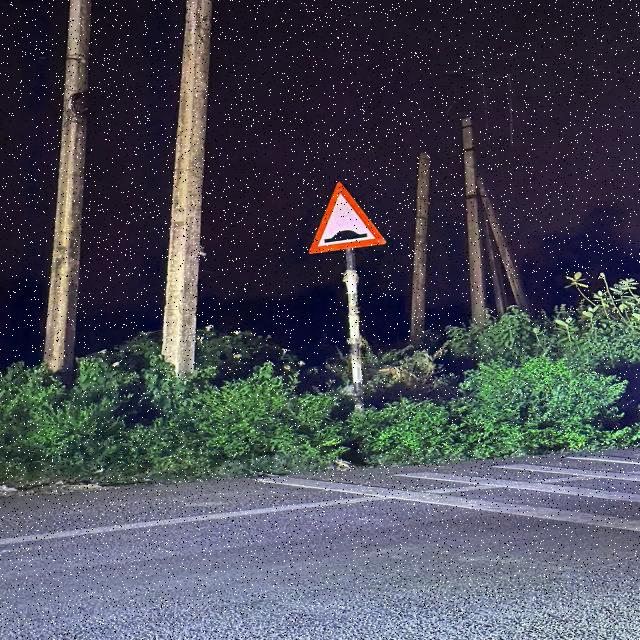Bump: (302, 177, 379, 252)
